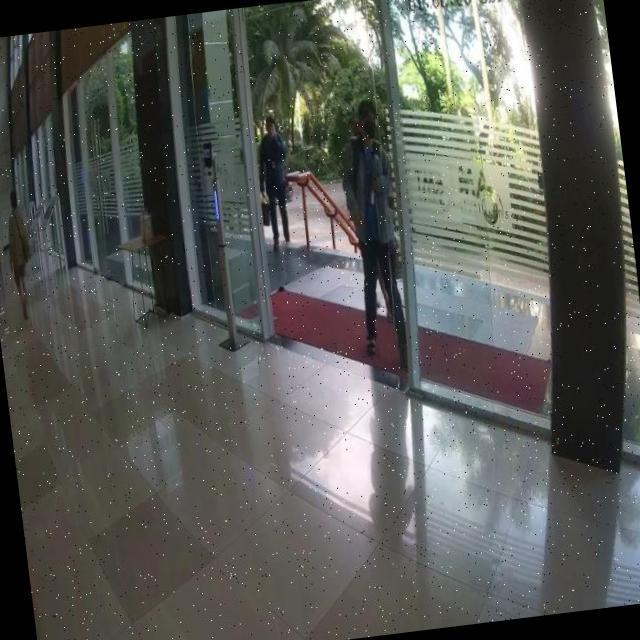person: (337, 99, 416, 368), (250, 115, 299, 254), (1, 186, 38, 317)
